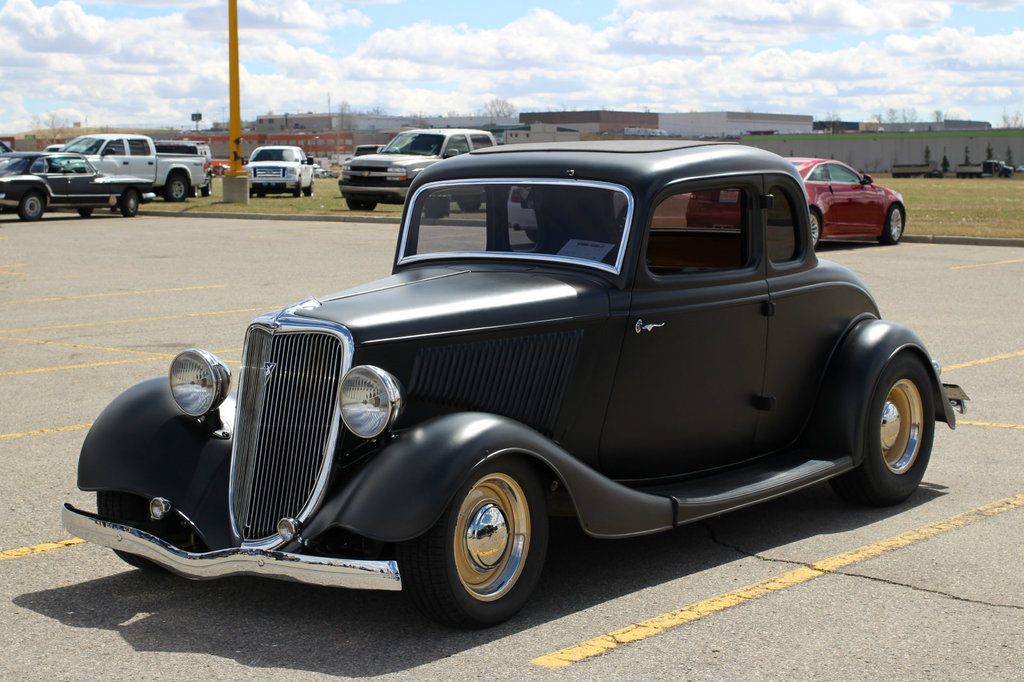mobil: (112, 156, 923, 594)
